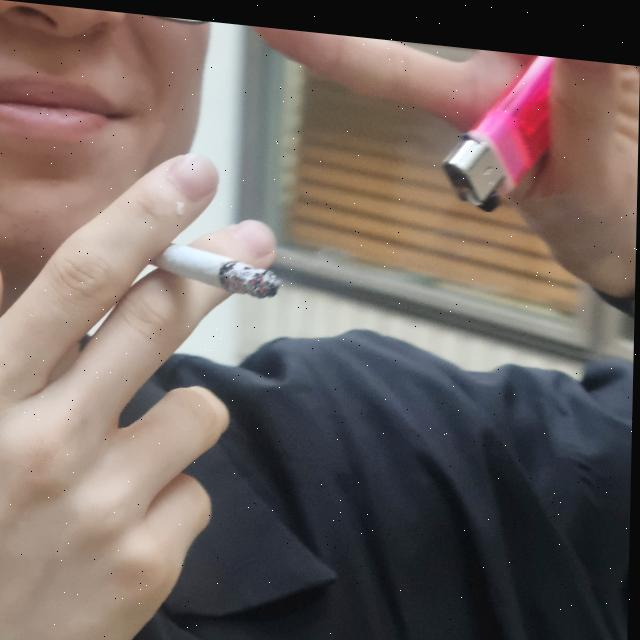cigarette: (146, 235, 281, 293)
